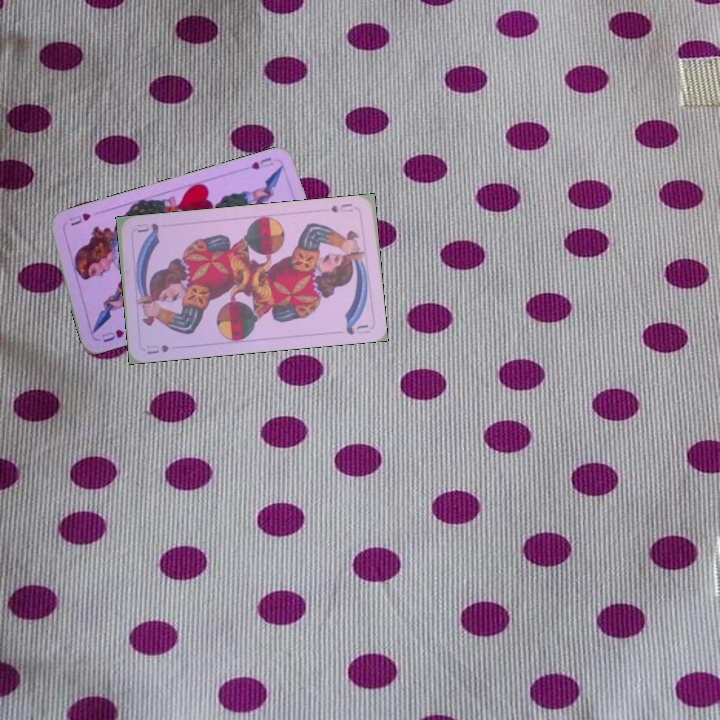HU: (247, 153, 278, 172), (98, 325, 127, 345)
SU: (143, 341, 171, 357), (327, 199, 355, 215)
